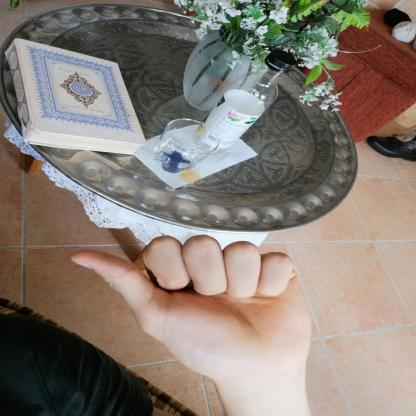DAD: (59, 226, 323, 387)
